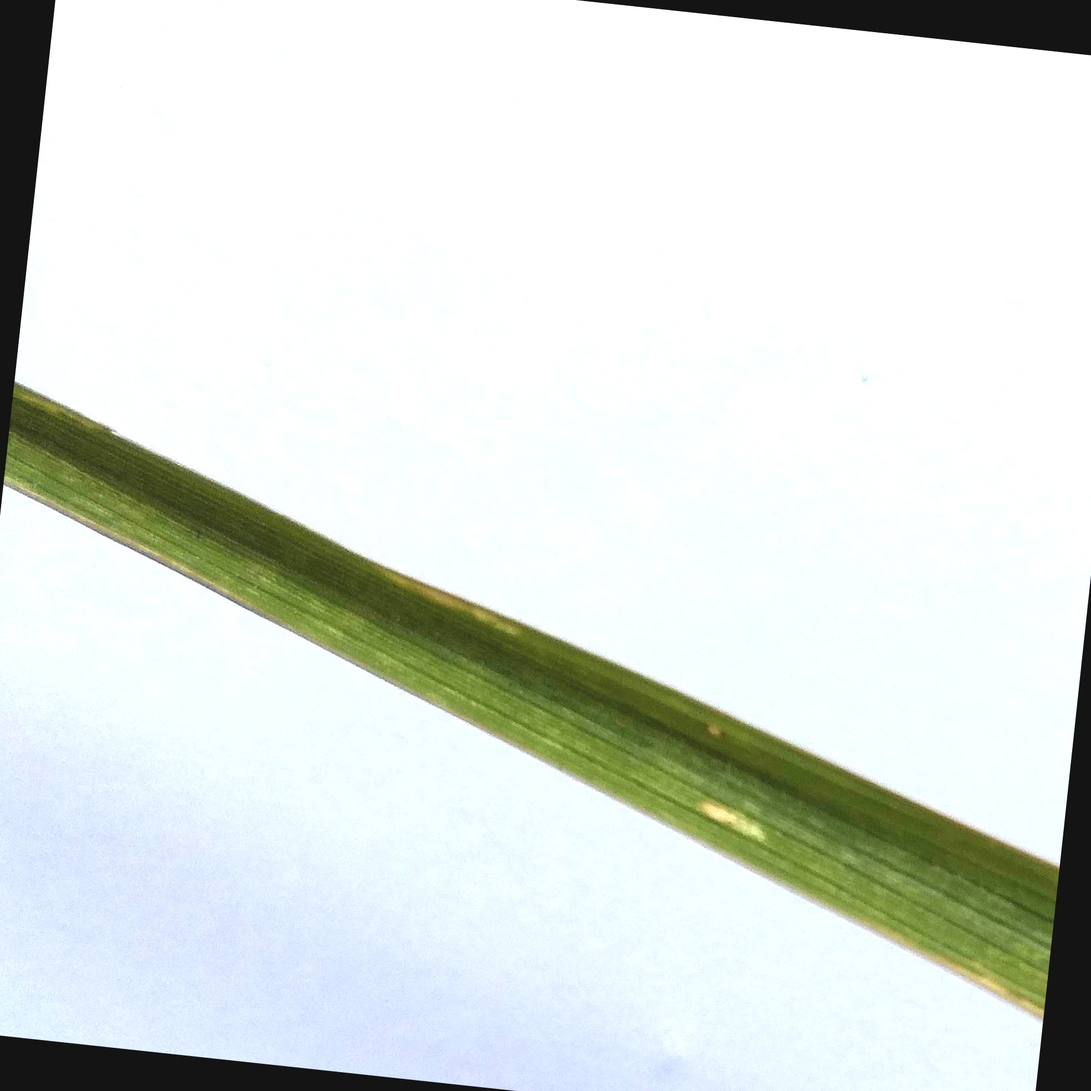Brown_Spot: (697, 798, 778, 836)
